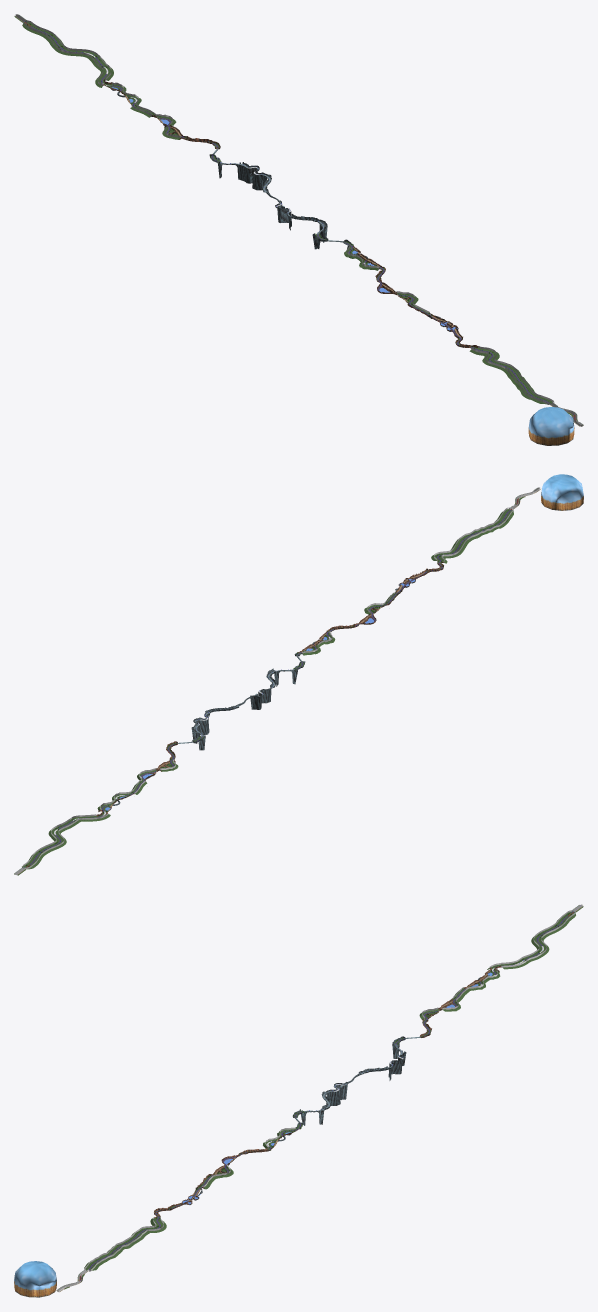
Rendered from track.glb.
3 views of the same model, one above another, from view 1: azimuth 30°, elevation 25°; view 2: azimuth 150°, elevation 25°; view 3: azimuth 330°, elevation 25° (orthographic). The views are drawn at different scales.
Parts seen in each view (by area): view 1: Sphere01; view 2: Sphere01; view 3: Sphere01.
Part boxes in pixels (x1,y1,x2,y2): Sphere01: [528, 407, 574, 445]; Sphere01: [541, 474, 583, 510]; Sphere01: [14, 1261, 56, 1297].
Size of the model in its own units: 799 by 390 by 11261.
Materials: 242 (31 with a texture image).
